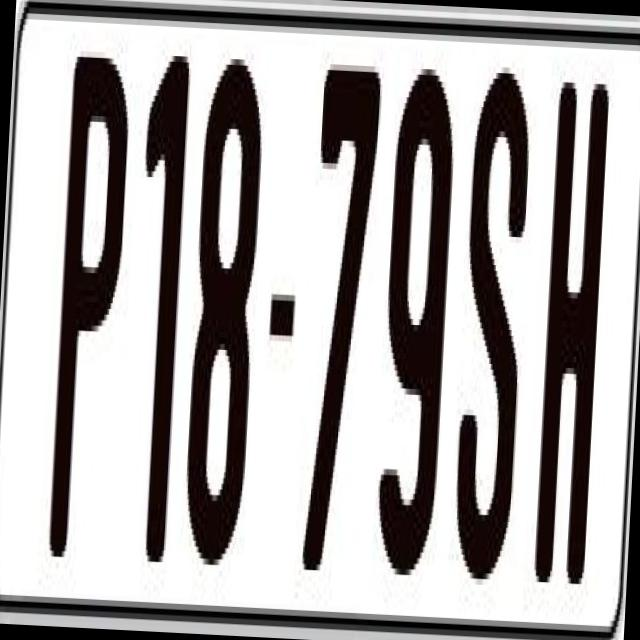1: (125, 43, 192, 568)
7: (298, 64, 389, 590)
8: (182, 46, 267, 566)
9: (371, 56, 457, 576)
H: (530, 75, 610, 608)
P: (48, 45, 134, 565)
S: (448, 60, 539, 592)
